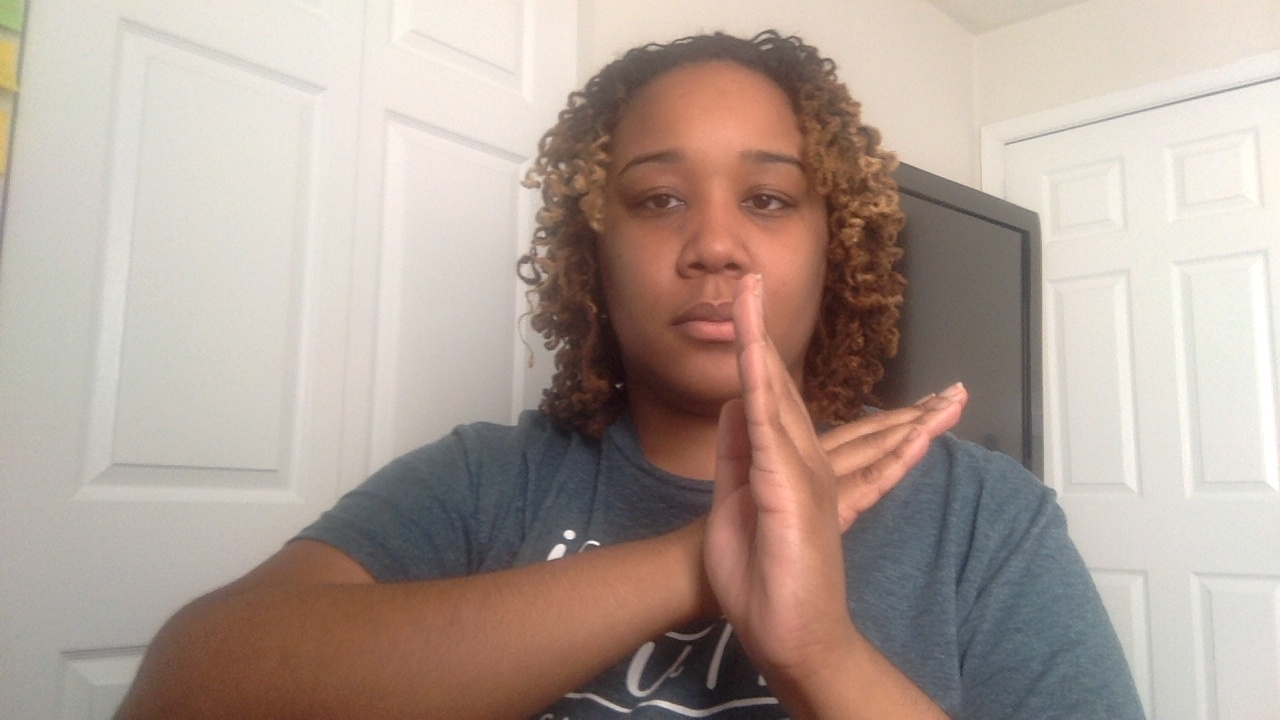quiet: (686, 274, 977, 680)
